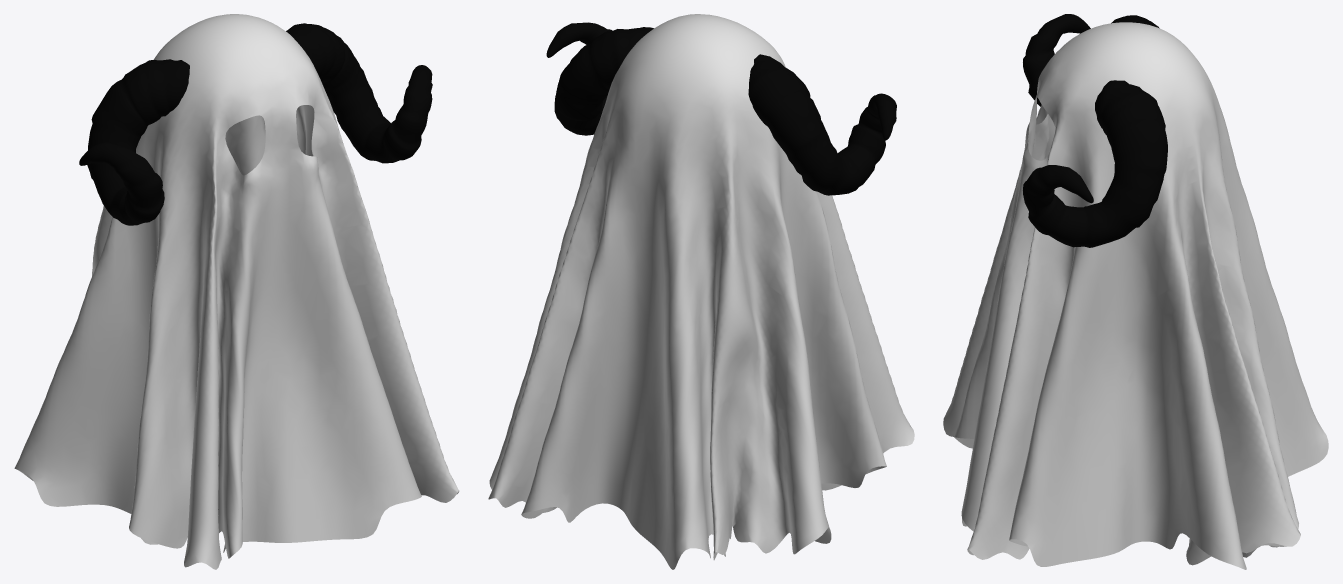
The model's file is GhostDevil.fbx.
3 renders of one model, left to right at view 1: azimuth 30°, elevation 25°; view 2: azimuth 150°, elevation 25°; view 3: azimuth 270°, elevation 25°, orthographic.
Parts seen in each view (by area): view 1: cornes_low; view 2: cornes_low; view 3: cornes_low.
Boxes of the visible parts, x1,y1,x2,y2 form: cornes_low: (14,14,459,569); cornes_low: (488,14,914,569); cornes_low: (943,14,1328,569).
Bounding box in the file's own units: 105 × 139 × 101.
